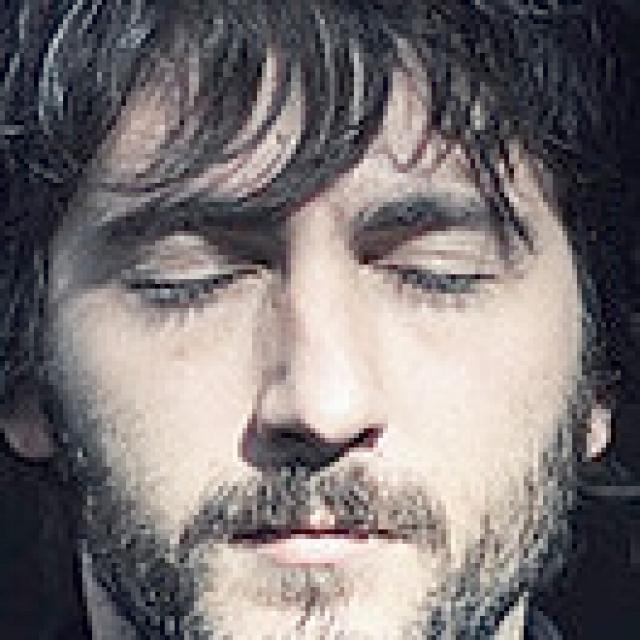sleepy: (81, 151, 551, 583)
